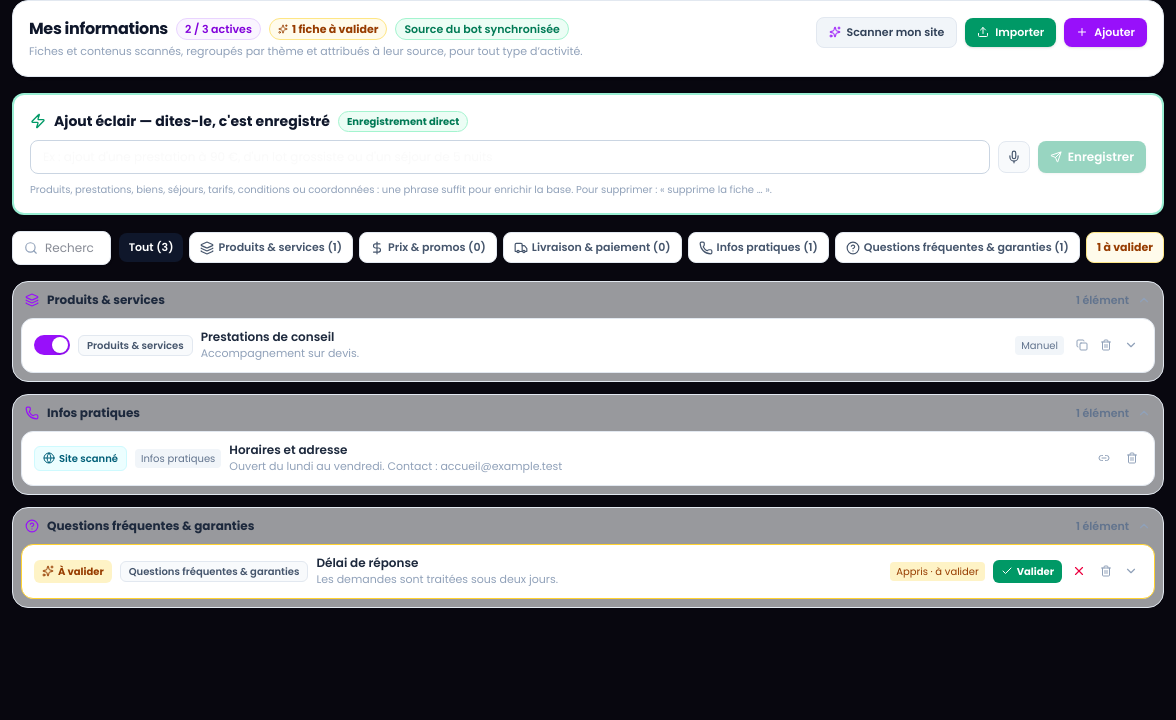
it: Base de connaissances unifiée › regroupe les documents scannés et les fiches, montre la provenance et fait valider les apprentissages
The width and height of the screenshot is (1176, 720).
Check: the text "Prestations de conseil" is shown, box [201,328,334,345]
Check: the text "Manuel" is shown, box [1015,336,1064,355]
Click the button "Valider": (1027,571) [993,560,1062,583]
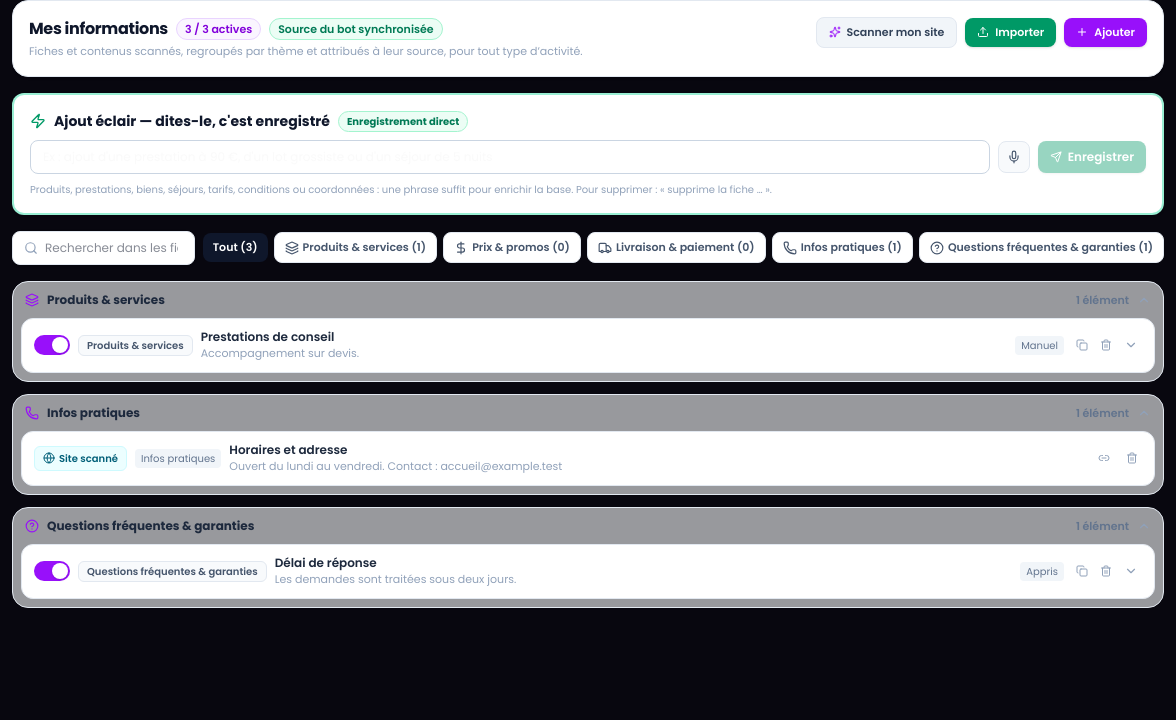
Check: the text "à valider" is gone
